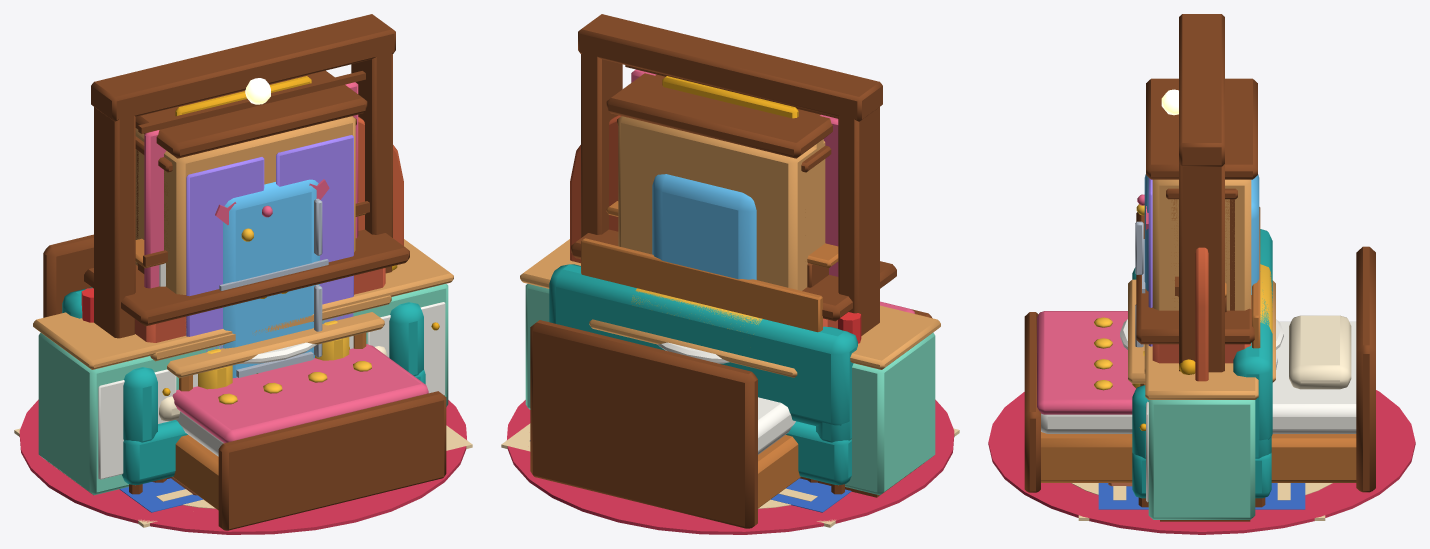
Rendered from house.glb.
3 renders of one model, left to right at view 1: azimuth 30°, elevation 25°; view 2: azimuth 150°, elevation 25°; view 3: azimuth 270°, elevation 25°, orthographic. The views are drawn at different scales.
Parts seen in each view (by area): view 1: bed, wardrobe, door_frame, counter, fridge, rug_round, fireplace, sofa, window, dining_table, rug_rect, workbench (+7 smaller); view 2: bed, door_frame, wardrobe, sofa, counter, rug_round, fridge, workbench, window, fireplace, rug_rect, door (+5 smaller); view 3: bed, counter, door_frame, wardrobe, rug_round, sofa, fireplace, fridge, rug_rect, door, dining_table, bookshelf (+2 smaller).
Boxes of the visible parts, left/top/right/bottom form: bed: left=43, top=234, right=446, bottom=530; wardrobe: left=135, top=70, right=367, bottom=353; door_frame: left=91, top=14, right=395, bottom=338; counter: left=33, top=239, right=453, bottom=495; fridge: left=219, top=179, right=328, bottom=377; rug_round: left=19, top=399, right=466, bottom=534; fireplace: left=84, top=229, right=409, bottom=495; sofa: left=62, top=287, right=425, bottom=494; window: left=138, top=71, right=365, bottom=288; dining_table: left=167, top=312, right=384, bottom=391; rug_rect: left=14, top=425, right=472, bottom=527; workbench: left=150, top=295, right=391, bottom=482; bed: left=530, top=301, right=932, bottom=528; door_frame: left=578, top=14, right=882, bottom=335; wardrobe: left=606, top=73, right=832, bottom=290; sofa: left=549, top=264, right=857, bottom=494; counter: left=520, top=239, right=940, bottom=497; rug_round: left=507, top=399, right=954, bottom=534; fridge: left=652, top=174, right=756, bottom=279; workbench: left=581, top=238, right=822, bottom=482; window: left=625, top=65, right=838, bottom=276; fireplace: left=571, top=229, right=896, bottom=480; rug_rect: left=501, top=423, right=959, bottom=527; door: left=570, top=115, right=620, bottom=263; bed: left=1024, top=246, right=1375, bottom=492; counter: left=1139, top=344, right=1258, bottom=521; door_frame: left=1161, top=14, right=1224, bottom=372; wardrobe: left=1146, top=78, right=1257, bottom=346; rug_round: left=988, top=390, right=1415, bottom=534; sofa: left=1132, top=229, right=1272, bottom=507; fireplace: left=1108, top=212, right=1254, bottom=486; fridge: left=1135, top=174, right=1259, bottom=347; rug_rect: left=1078, top=483, right=1325, bottom=520; door: left=1179, top=247, right=1208, bottom=381; dining_table: left=1128, top=279, right=1275, bottom=386; bookshelf: left=1166, top=188, right=1237, bottom=310.
Bounding box in the file's own units: 2.6 × 2.46 × 2.6.
